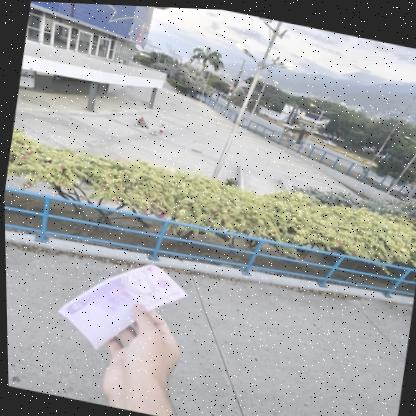one_hundred-back-vef: (49, 245, 192, 365)
